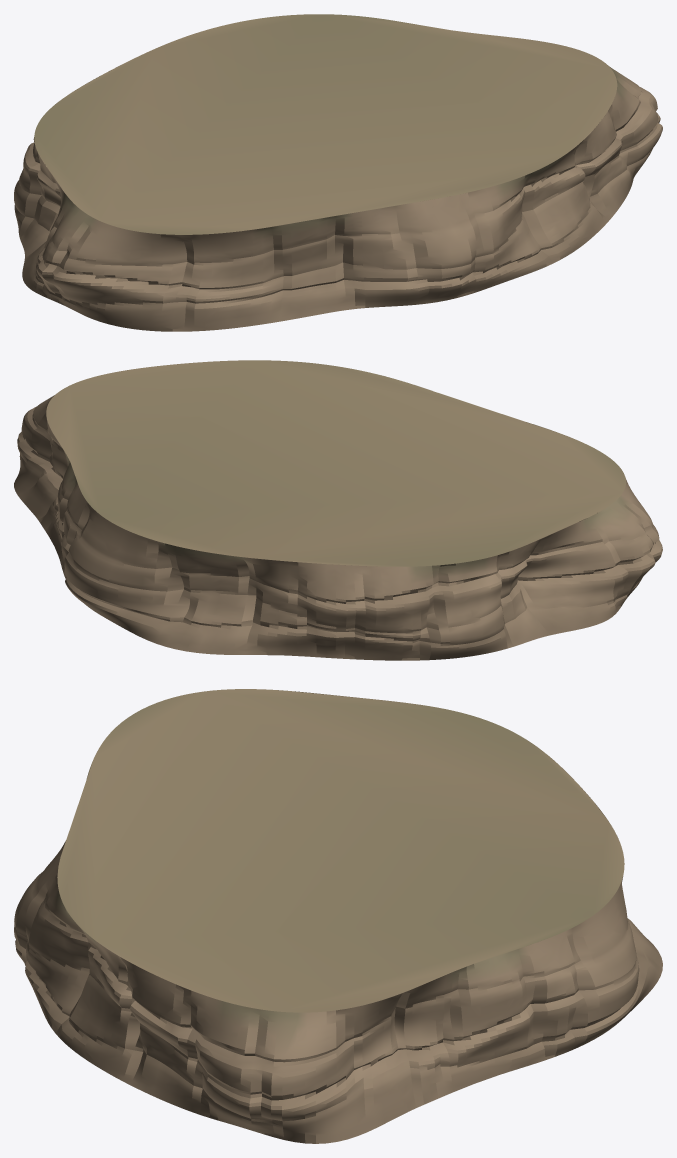
Rendered from coast_atelier_0.glb.
3 views of the same model, one above another, from view 1: azimuth 30°, elevation 25°; view 2: azimuth 150°, elevation 25°; view 3: azimuth 270°, elevation 25° (orthographic). The views are drawn at different scales.
Visible parts, largest first — view 1: Harbor eroded bank; view 2: Harbor eroded bank; view 3: Harbor eroded bank.
Boxes of the visible parts, x1,y1,x2,y2 form: Harbor eroded bank: (14,14,662,331); Harbor eroded bank: (14,360,662,660); Harbor eroded bank: (14,689,662,1143).
Size of the model in its own units: 29.9 by 4.09 by 21.76.
